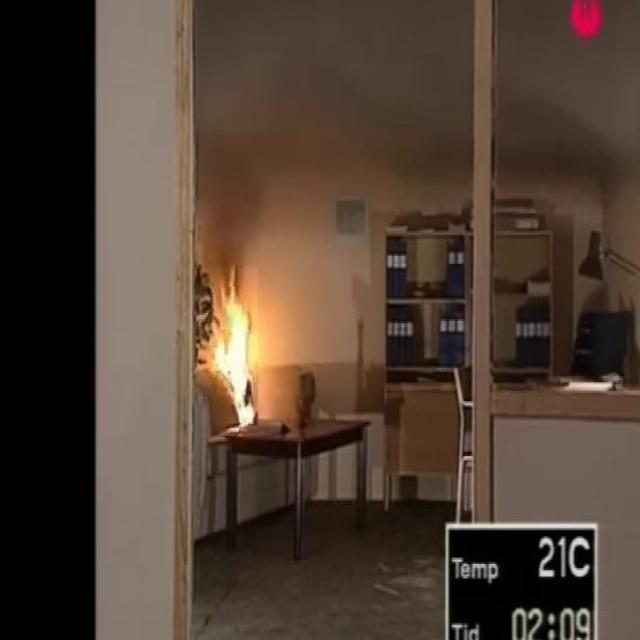fire: (195, 0, 470, 188), (499, 0, 640, 186)
smoke: (202, 266, 258, 437)
